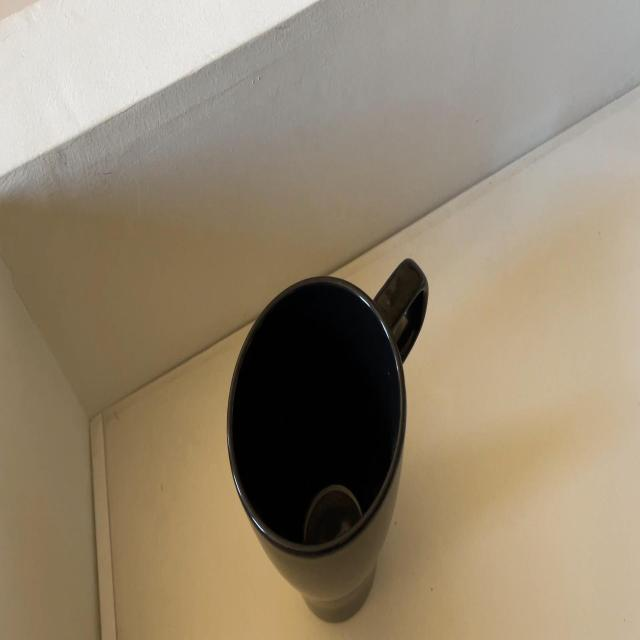cup: (225, 253, 429, 625)
